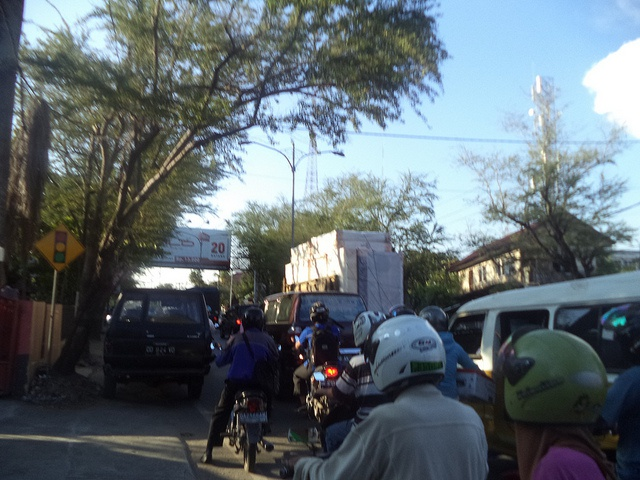non-vehicle: (209, 341, 281, 471), (288, 324, 343, 425)
